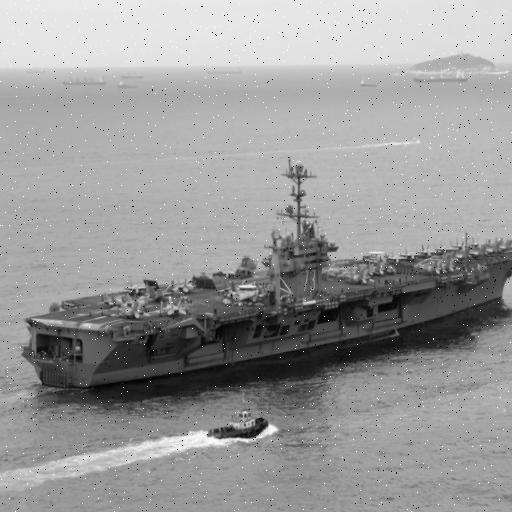Portanaves: (13, 157, 512, 402)
